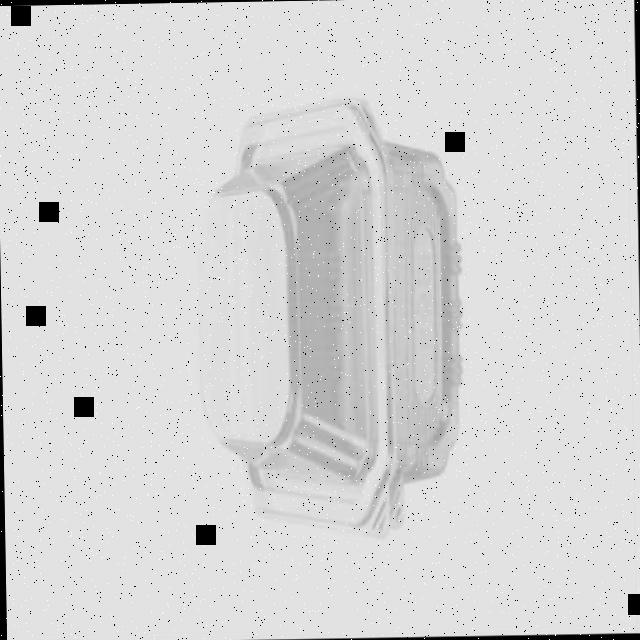plastic_box: (208, 94, 470, 538)
